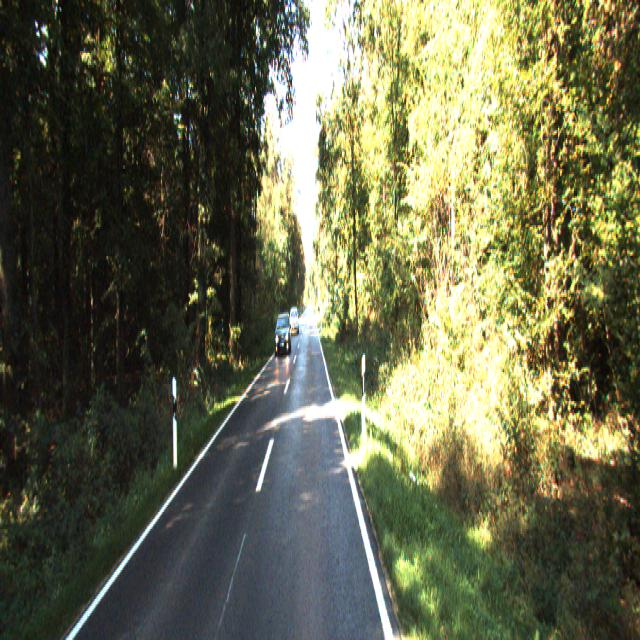Car: (274, 312, 292, 358)
